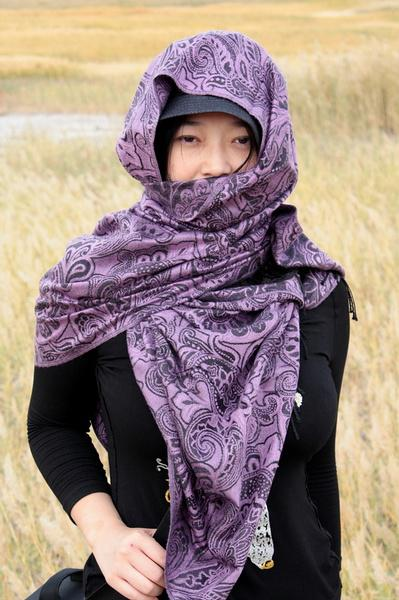WRONG: (152, 110, 276, 232)
